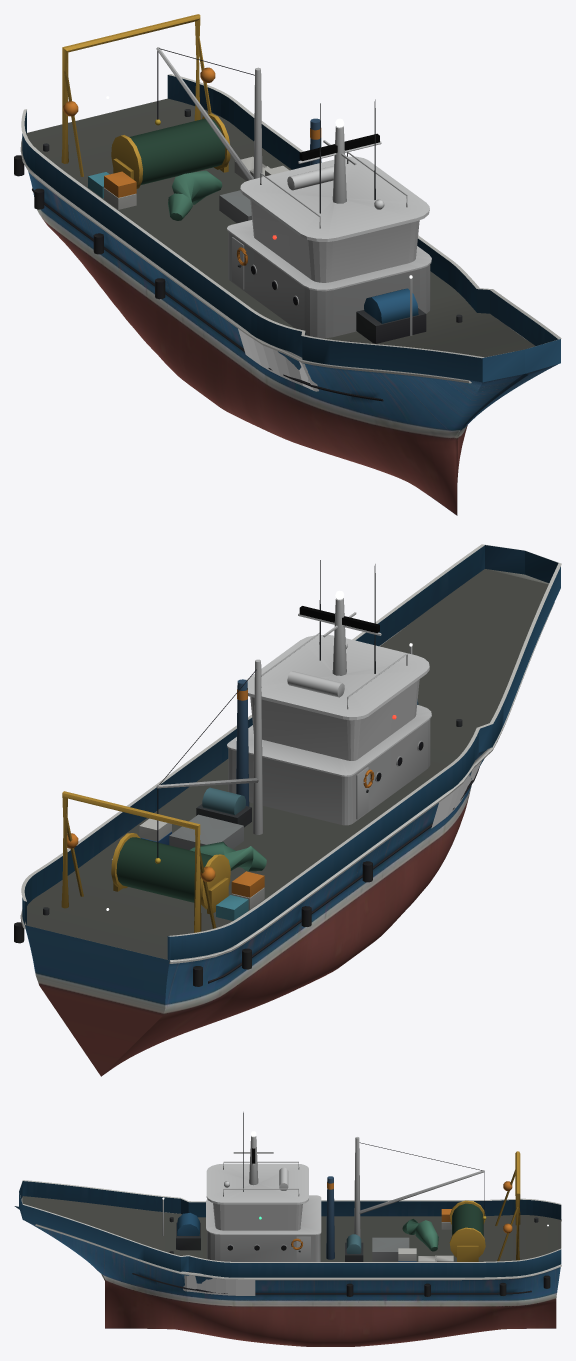
Rendered from kutter.glb.
3 renders of one model, top to bottom at view 1: azimuth 30°, elevation 25°; view 2: azimuth 150°, elevation 25°; view 3: azimuth 270°, elevation 25°, orthographic. The views are drawn at different scales.
Parts seen in each view (by area): view 1: trim, rumpf, rund, name-1, radar; view 2: trim, rumpf, rund, name-1, radar; view 3: trim, rumpf, rund, name1.
Boxes of the visible parts, <box> form: trim: <box>21,74,561,382</box>; rumpf: <box>28,171,557,515</box>; rund: <box>14,14,527,401</box>; name-1: <box>238,329,318,391</box>; radar: <box>299,133,379,160</box>; trim: <box>21,544,561,960</box>; rumpf: <box>25,750,486,1076</box>; rund: <box>14,560,554,986</box>; name-1: <box>431,761,481,828</box>; radar: <box>299,606,379,633</box>; trim: <box>19,1163,561,1277</box>; rumpf: <box>14,1206,560,1346</box>; rund: <box>35,1112,561,1296</box>; name1: <box>183,1275,255,1295</box>.
Bounding box in the file's own units: 9.49 × 14.19 × 32.77.
7 materials, 1 textured.
